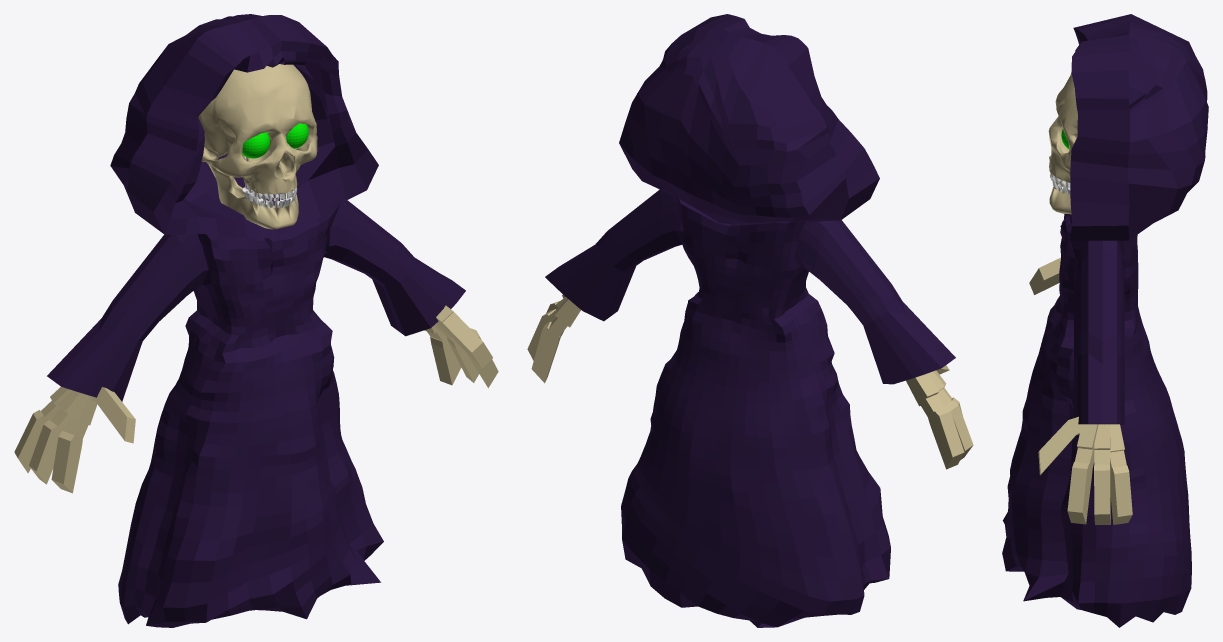
File: Death.fbx
3 views of the same model, side by side, from view 1: azimuth 30°, elevation 25°; view 2: azimuth 150°, elevation 25°; view 3: azimuth 270°, elevation 25° (orthographic). The views are drawn at different scales.
Parts seen in each view (by area): view 1: Cube, Cube.013, lowpoly+skull, Cube.001, Cube.002, Cube.005, Cube.006, Cube.007, Cube.009, Cube.004, Cube.010; view 2: Cube, Cube.013, Cube.001, Cube.002, Cube.007, Cube.010, Cube.006; view 3: Cube, Cube.013, Cube.002, lowpoly+skull, Cube.012, Cube.010, Cube.011, Cube.009, Cube.004.
Boxes of the visible parts, left/top/right/bottom form: Cube: left=118, top=200, right=383, bottom=627; Cube.013: left=110, top=14, right=378, bottom=238; lowpoly+skull: left=198, top=64, right=317, bottom=229; Cube.001: left=47, top=234, right=208, bottom=401; Cube.002: left=323, top=200, right=465, bottom=336; Cube.005: left=51, top=393, right=97, bottom=493; Cube.006: left=29, top=390, right=81, bottom=484; Cube.007: left=14, top=386, right=71, bottom=473; Cube.009: left=441, top=312, right=492, bottom=368; Cube.004: left=94, top=388, right=135, bottom=443; Cube.010: left=424, top=326, right=461, bottom=385; Cube: left=621, top=198, right=890, bottom=627; Cube.013: left=619, top=14, right=879, bottom=223; Cube.001: left=794, top=220, right=955, bottom=384; Cube.002: left=545, top=189, right=682, bottom=321; Cube.007: left=906, top=373, right=964, bottom=469; Cube.010: left=531, top=298, right=580, bottom=383; Cube.006: left=927, top=371, right=973, bottom=460; Cube: left=1002, top=214, right=1191, bottom=627; Cube.013: left=1070, top=14, right=1208, bottom=240; Cube.002: left=1074, top=240, right=1124, bottom=424; lowpoly+skull: left=1048, top=72, right=1077, bottom=214; Cube.012: left=1067, top=424, right=1098, bottom=524; Cube.010: left=1104, top=424, right=1132, bottom=524; Cube.011: left=1094, top=424, right=1110, bottom=524; Cube.009: left=1038, top=420, right=1076, bottom=475; Cube.004: left=1029, top=257, right=1060, bottom=294.
Bounding box in the file's own units: 315 × 382 × 125.
